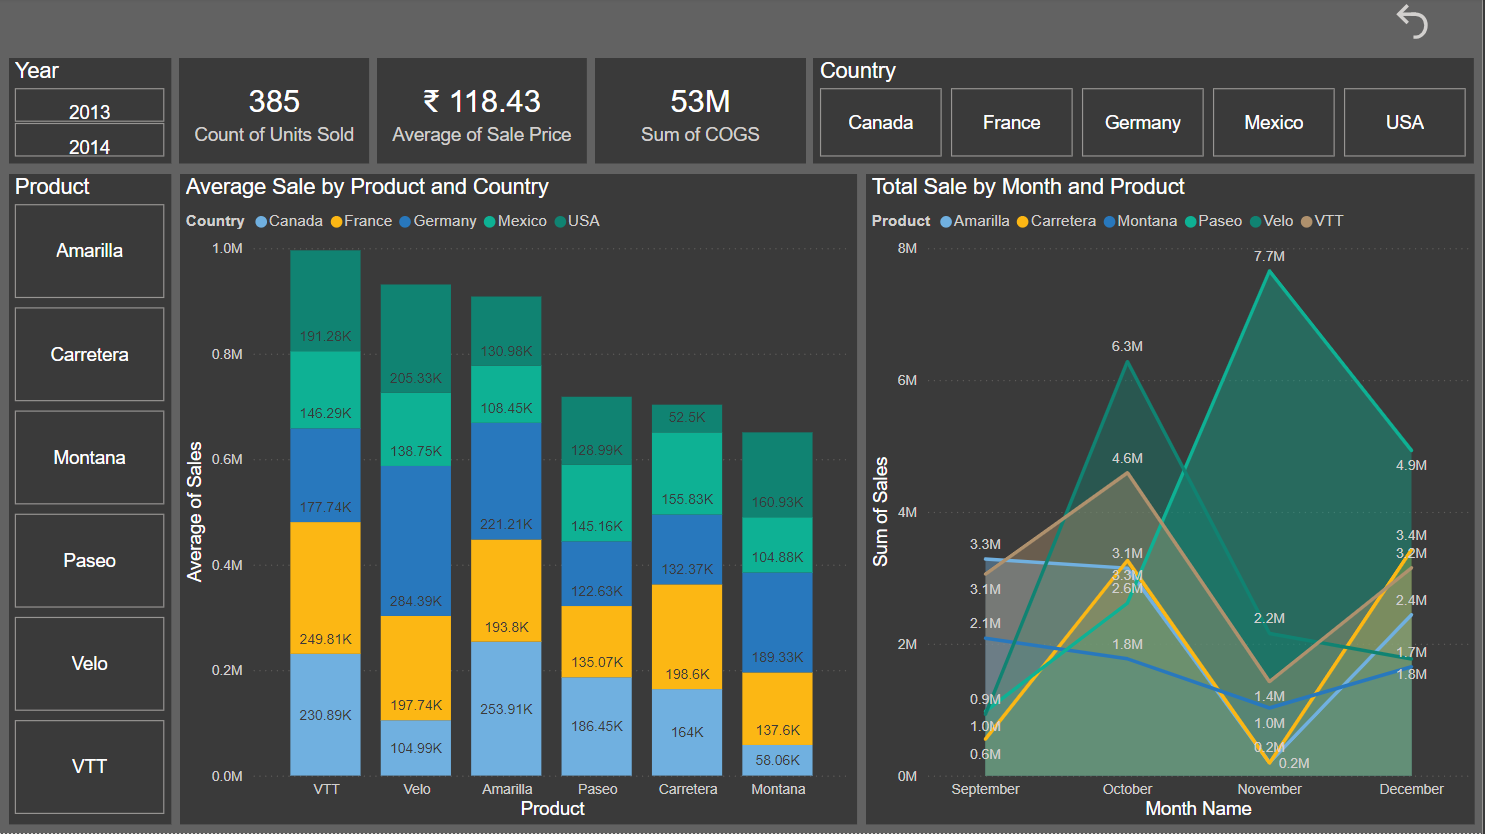

What the dashboard file says about the page in this screenshot:
{"tool":"powerbi","page":{"name":"Page 3","canvas":[1280,720],"ordinal":2},"visuals":[{"type":"advancedSlicerVisual","fields":{"Values":["Sheet1.Year"]},"box":[9.6,51.5,139.8,90.9],"z":0},{"type":"advancedSlicerVisual","fields":{"Values":["Sheet1.Country"]},"box":[703.3,51.5,569.7,90.9],"z":1000},{"type":"advancedSlicerVisual","fields":{"Values":["Sheet1.Product"]},"box":[9.8,152.2,139.6,561.2],"z":2000},{"type":"areaChart","title":"Total Sale by Month and Product","fields":{"Category":["Sheet1.Month Name"],"Y":["Sum(Sheet1. Sales)"],"Series":["Sheet1.Product"]},"box":[748.3,152.2,524.5,561.2],"z":3000},{"type":"card","fields":{"Values":["CountNonNull(Sheet1.Units Sold)"]},"box":[156.4,51.5,164.3,90.9],"z":4000},{"type":"card","fields":{"Values":["Avg(Sheet1.Sale Price)"]},"box":[326.8,51.5,180.9,90.9],"z":5000},{"type":"columnChart","title":"Average Sale by Product and Country","fields":{"Y":["Avg(Sheet1. Sales)"],"Category":["Sheet1.Product"],"Series":["Sheet1.Country"]},"box":[156.6,152.2,583.6,561.2],"z":6000},{"type":"card","fields":{"Values":["Sum(Sheet1.COGS)"]},"box":[514.6,51.5,181.7,90.9],"z":7000},{"type":"actionButton","box":[1199.4,0,51,40.3],"z":8000}]}

Visuals, with their boxes in screenshot pixels (x1, y1, x2, y2), scaled from the page's 1280x720 canvas onto the 1485x834 screenshot:
advancedSlicerVisual - Sheet1.Year: (11, 60, 173, 165)
advancedSlicerVisual - Sheet1.Country: (816, 60, 1477, 165)
advancedSlicerVisual - Sheet1.Product: (11, 176, 173, 826)
"Total Sale by Month and Product" areaChart: (868, 176, 1477, 826)
card - CountNonNull(Sheet1.Units Sold): (181, 60, 372, 165)
card - Avg(Sheet1.Sale Price): (379, 60, 589, 165)
"Average Sale by Product and Country" columnChart: (182, 176, 859, 826)
card - Sum(Sheet1.COGS): (597, 60, 808, 165)
actionButton: (1391, 0, 1451, 47)
